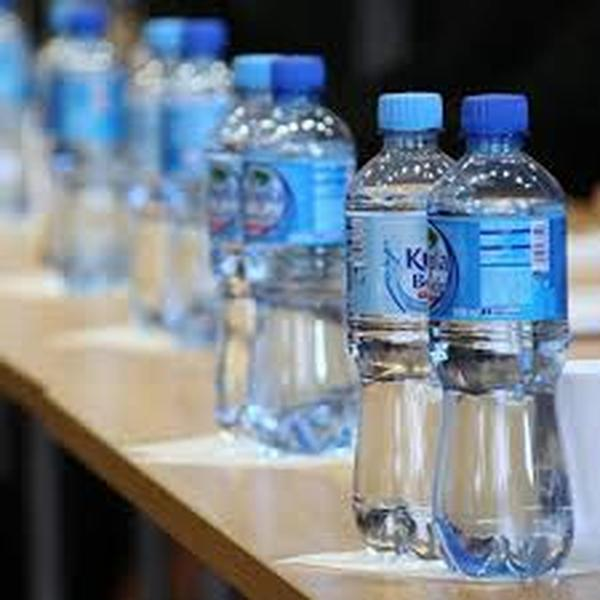tutuma: (431, 73, 591, 588), (242, 39, 352, 458)
